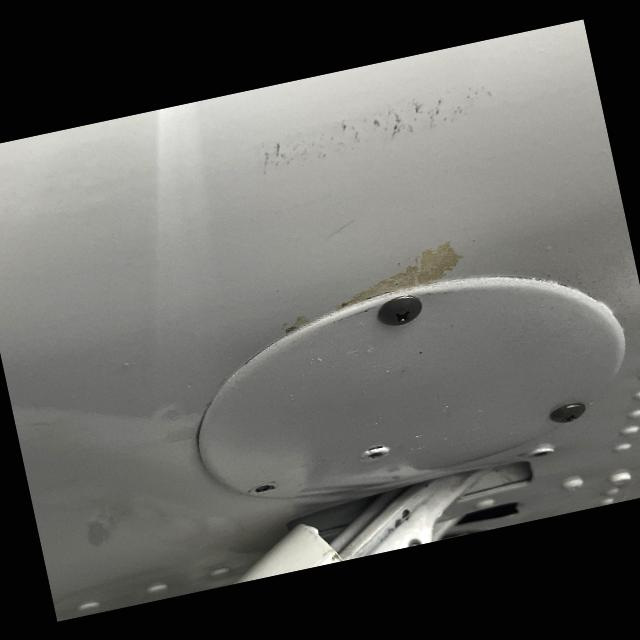Missing Fastener: (246, 478, 280, 502)
